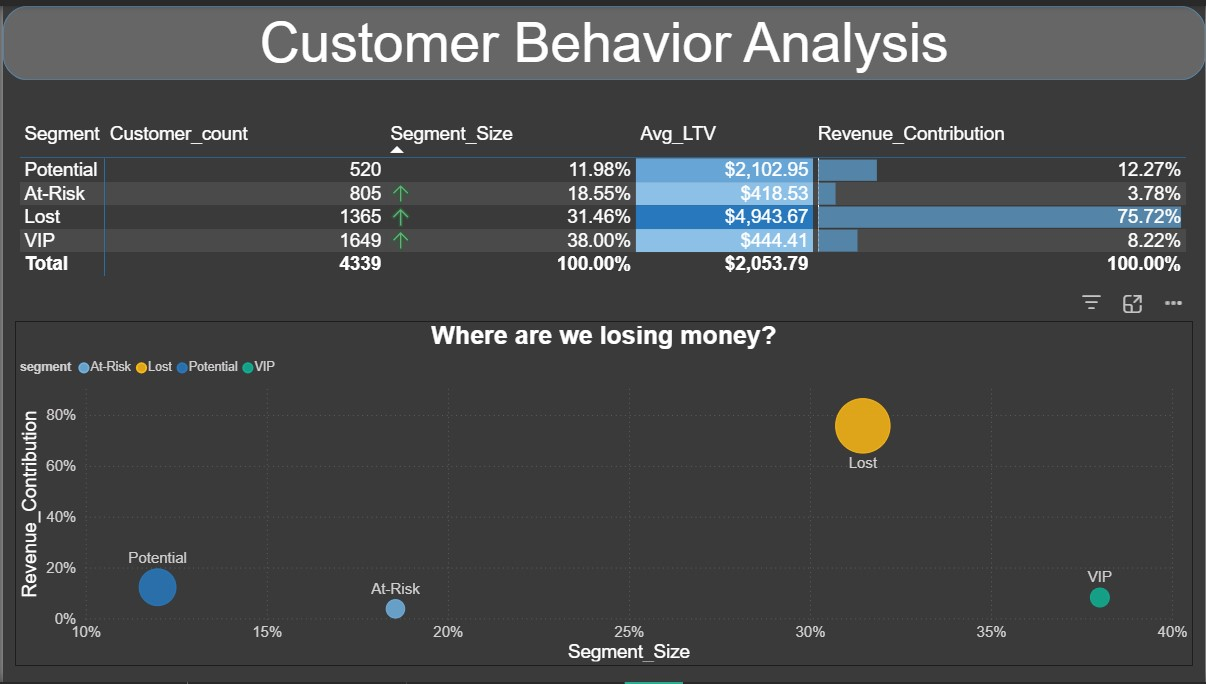

Layout of this report page (visuals, bound fields, positions):
{"tool":"powerbi","page":{"name":"Customer_behavior","canvas":[1280,720],"ordinal":0},"visuals":[{"type":"shape","box":[0,0,1280.7,79],"z":2000},{"type":"pivotTable","fields":{"Rows":["1_customer_segmentation.segment"],"Values":["1_customer_segmentation.customer_count","1_customer_segmentation.Segment_Size_%","1_customer_segmentation.avg ltv","1_customer_segmentation.Revenue_Contribution_%"]},"box":[13.5,117.5,1253.7,188.7],"z":3000},{"type":"scatterChart","title":"Where are we losing money?","fields":{"X":["1_customer_segmentation.Segment_Size_%"],"Y":["1_customer_segmentation.Revenue_Contribution_%"],"Series":["1_customer_segmentation.segment"],"Size":["1_customer_segmentation.avg ltv"]},"box":[12.8,335.5,1254.2,367.5],"z":4000},{"type":"textbox","box":[0,0,1280.7,79],"z":5000}]}

Visuals, with their boxes in screenshot pixels (x1, y1, x2, y2), scaled from the page's 1280x720 canvas onto the 1206x684 screenshot:
shape: pyautogui.locateOnScreen(0, 0, 1205, 75)
pivotTable - 1_customer_segmentation.segment x 1_customer_segmentation.customer_count: pyautogui.locateOnScreen(13, 112, 1194, 291)
"Where are we losing money?" scatterChart: pyautogui.locateOnScreen(12, 319, 1194, 668)
textbox: pyautogui.locateOnScreen(0, 0, 1205, 75)
